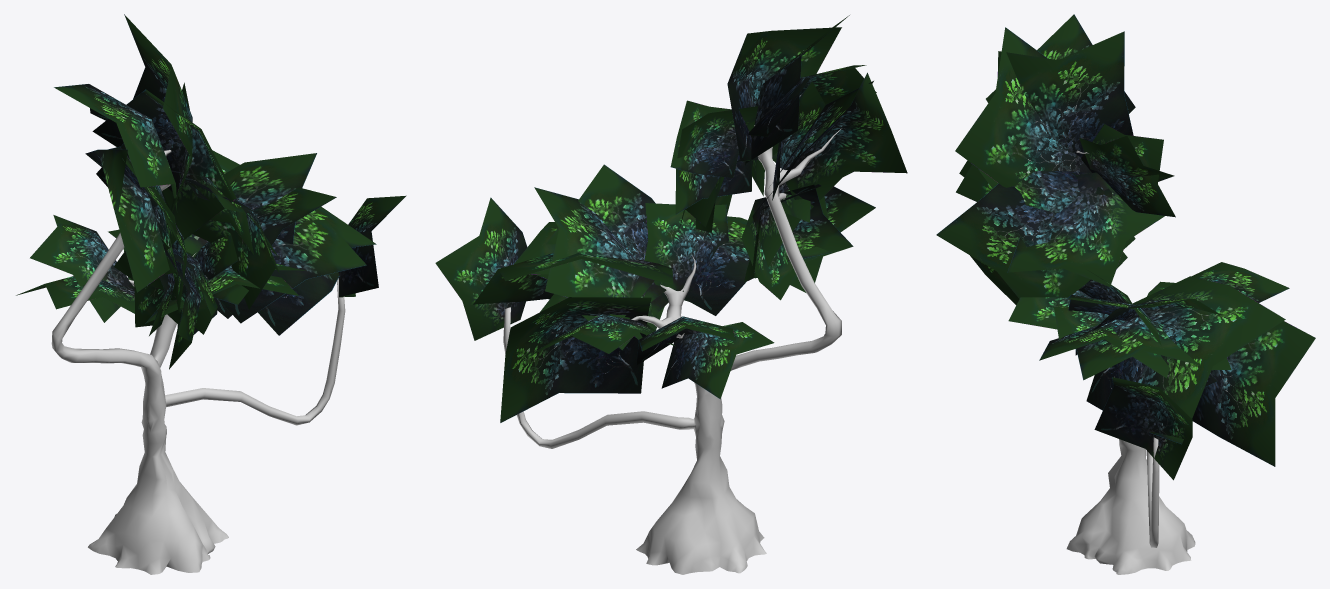
File: Tree_Blueteeth.fbx
3 renders of one model, left to right at view 1: azimuth 30°, elevation 25°; view 2: azimuth 150°, elevation 25°; view 3: azimuth 270°, elevation 25°, orthographic. The views are drawn at different scales.
Parts seen in each view (by area): view 1: U3DMesh; view 2: U3DMesh; view 3: U3DMesh.
Boxes of the visible parts, left/top/right/bottom form: U3DMesh: left=16, top=14, right=406, bottom=574; U3DMesh: left=435, top=15, right=907, bottom=574; U3DMesh: left=936, top=14, right=1315, bottom=574.
Size of the model in its own units: 27.64 by 37.18 by 25.67.
